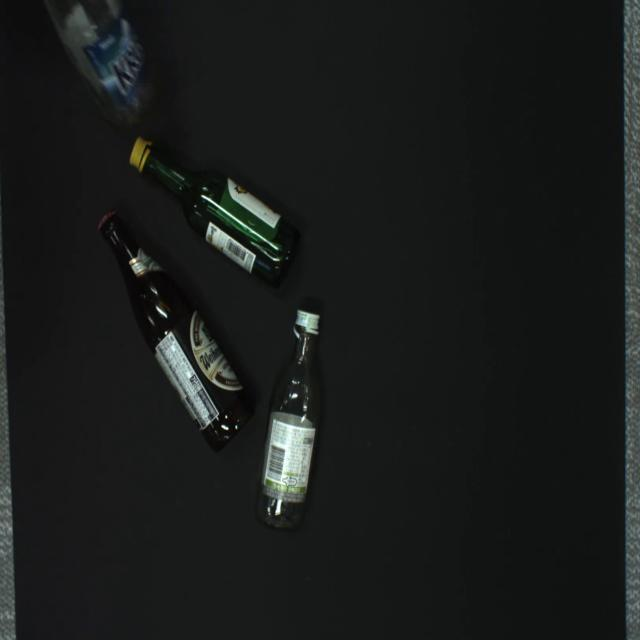beer-bottle: (98, 211, 255, 451)
soju-bottle: (130, 138, 299, 288), (254, 309, 322, 531)
